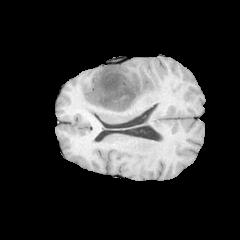glioma: (70, 60, 164, 124)
